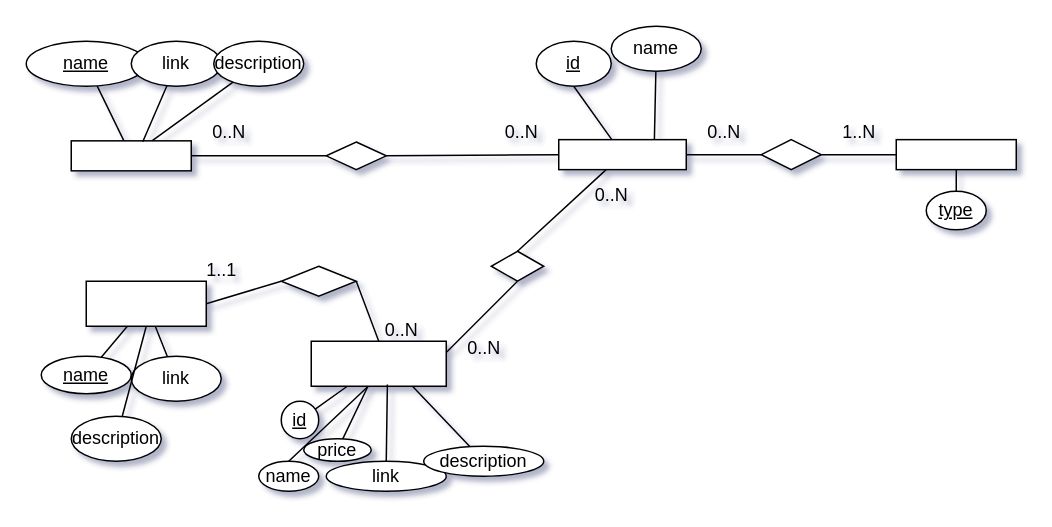
Image size: 1052x527. Some labels were removed from this diagram. Here are the shapes that lost their labels. From the top down, the centre of each, then its label:
point 130,155: designers
point 621,154: blasters
point 955,154: launch_mech
point 145,303: shops
point 378,363: blaster_listings
